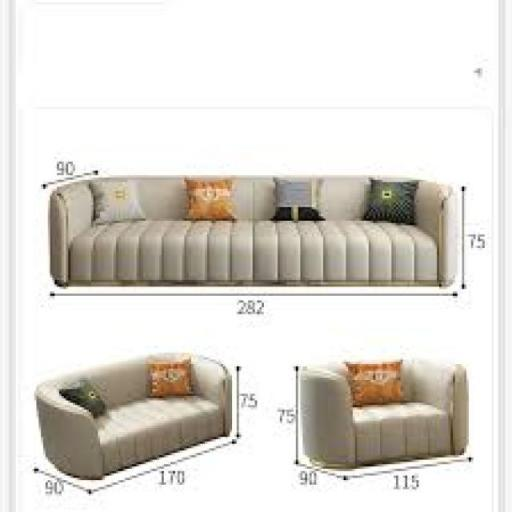sofa: (30, 134, 502, 344), (276, 350, 510, 510), (32, 346, 252, 512)
